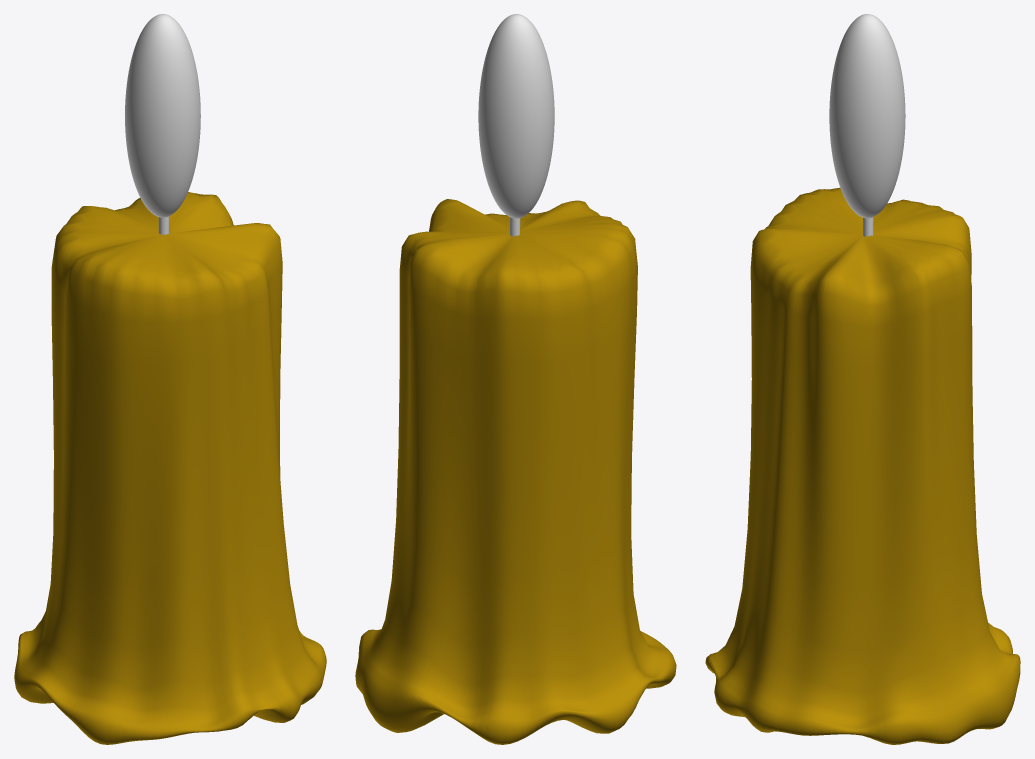
The model's file is candle.fbx.
3 renders of one model, left to right at view 1: azimuth 30°, elevation 25°; view 2: azimuth 150°, elevation 25°; view 3: azimuth 270°, elevation 25°, orthographic.
Parts seen in each view (by area): view 1: Cylinder, Sphere; view 2: Cylinder, Sphere; view 3: Cylinder, Sphere.
Boxes of the visible parts, <box> form: Cylinder: <box>14,192,326,744</box>; Sphere: <box>125,14,200,217</box>; Cylinder: <box>355,199,676,744</box>; Sphere: <box>478,14,554,218</box>; Cylinder: <box>705,187,1020,744</box>; Sphere: <box>829,14,905,218</box>.
Bounding box in the file's own units: 65.6 × 158 × 65.99.
